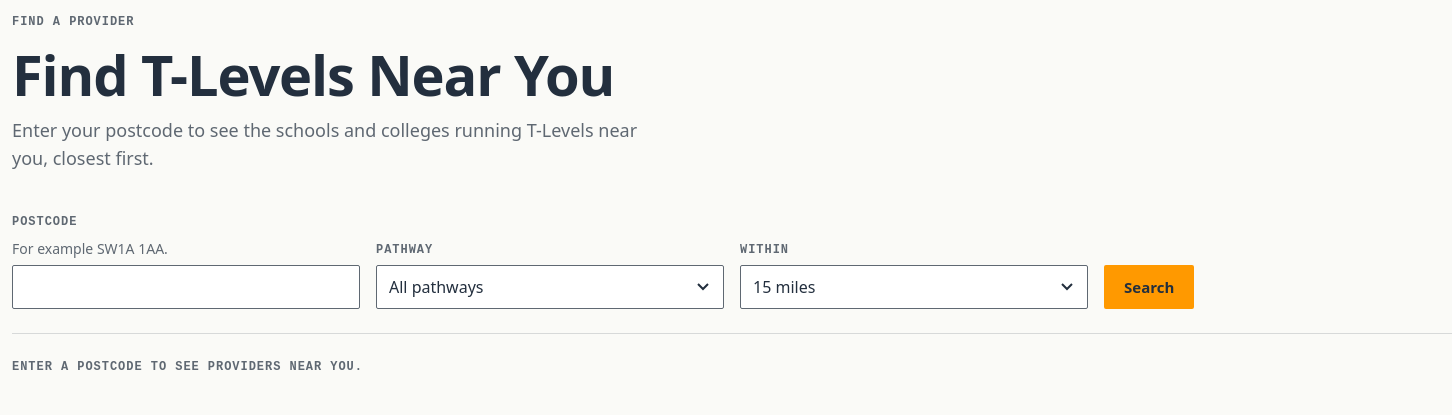
Test case: Find T-Levels Near You page › asks for a postcode rather than searching for nothing
Click the button "Search": (1149, 287) [1104,265,1194,309]
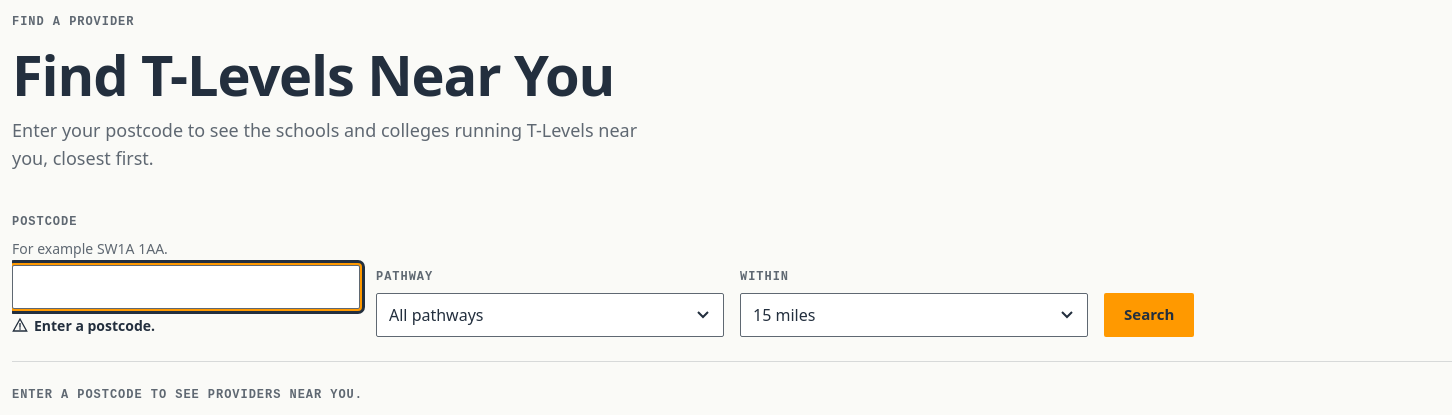
expect the message "Enter a postcode." is shown: met, box [12,316,155,335]
